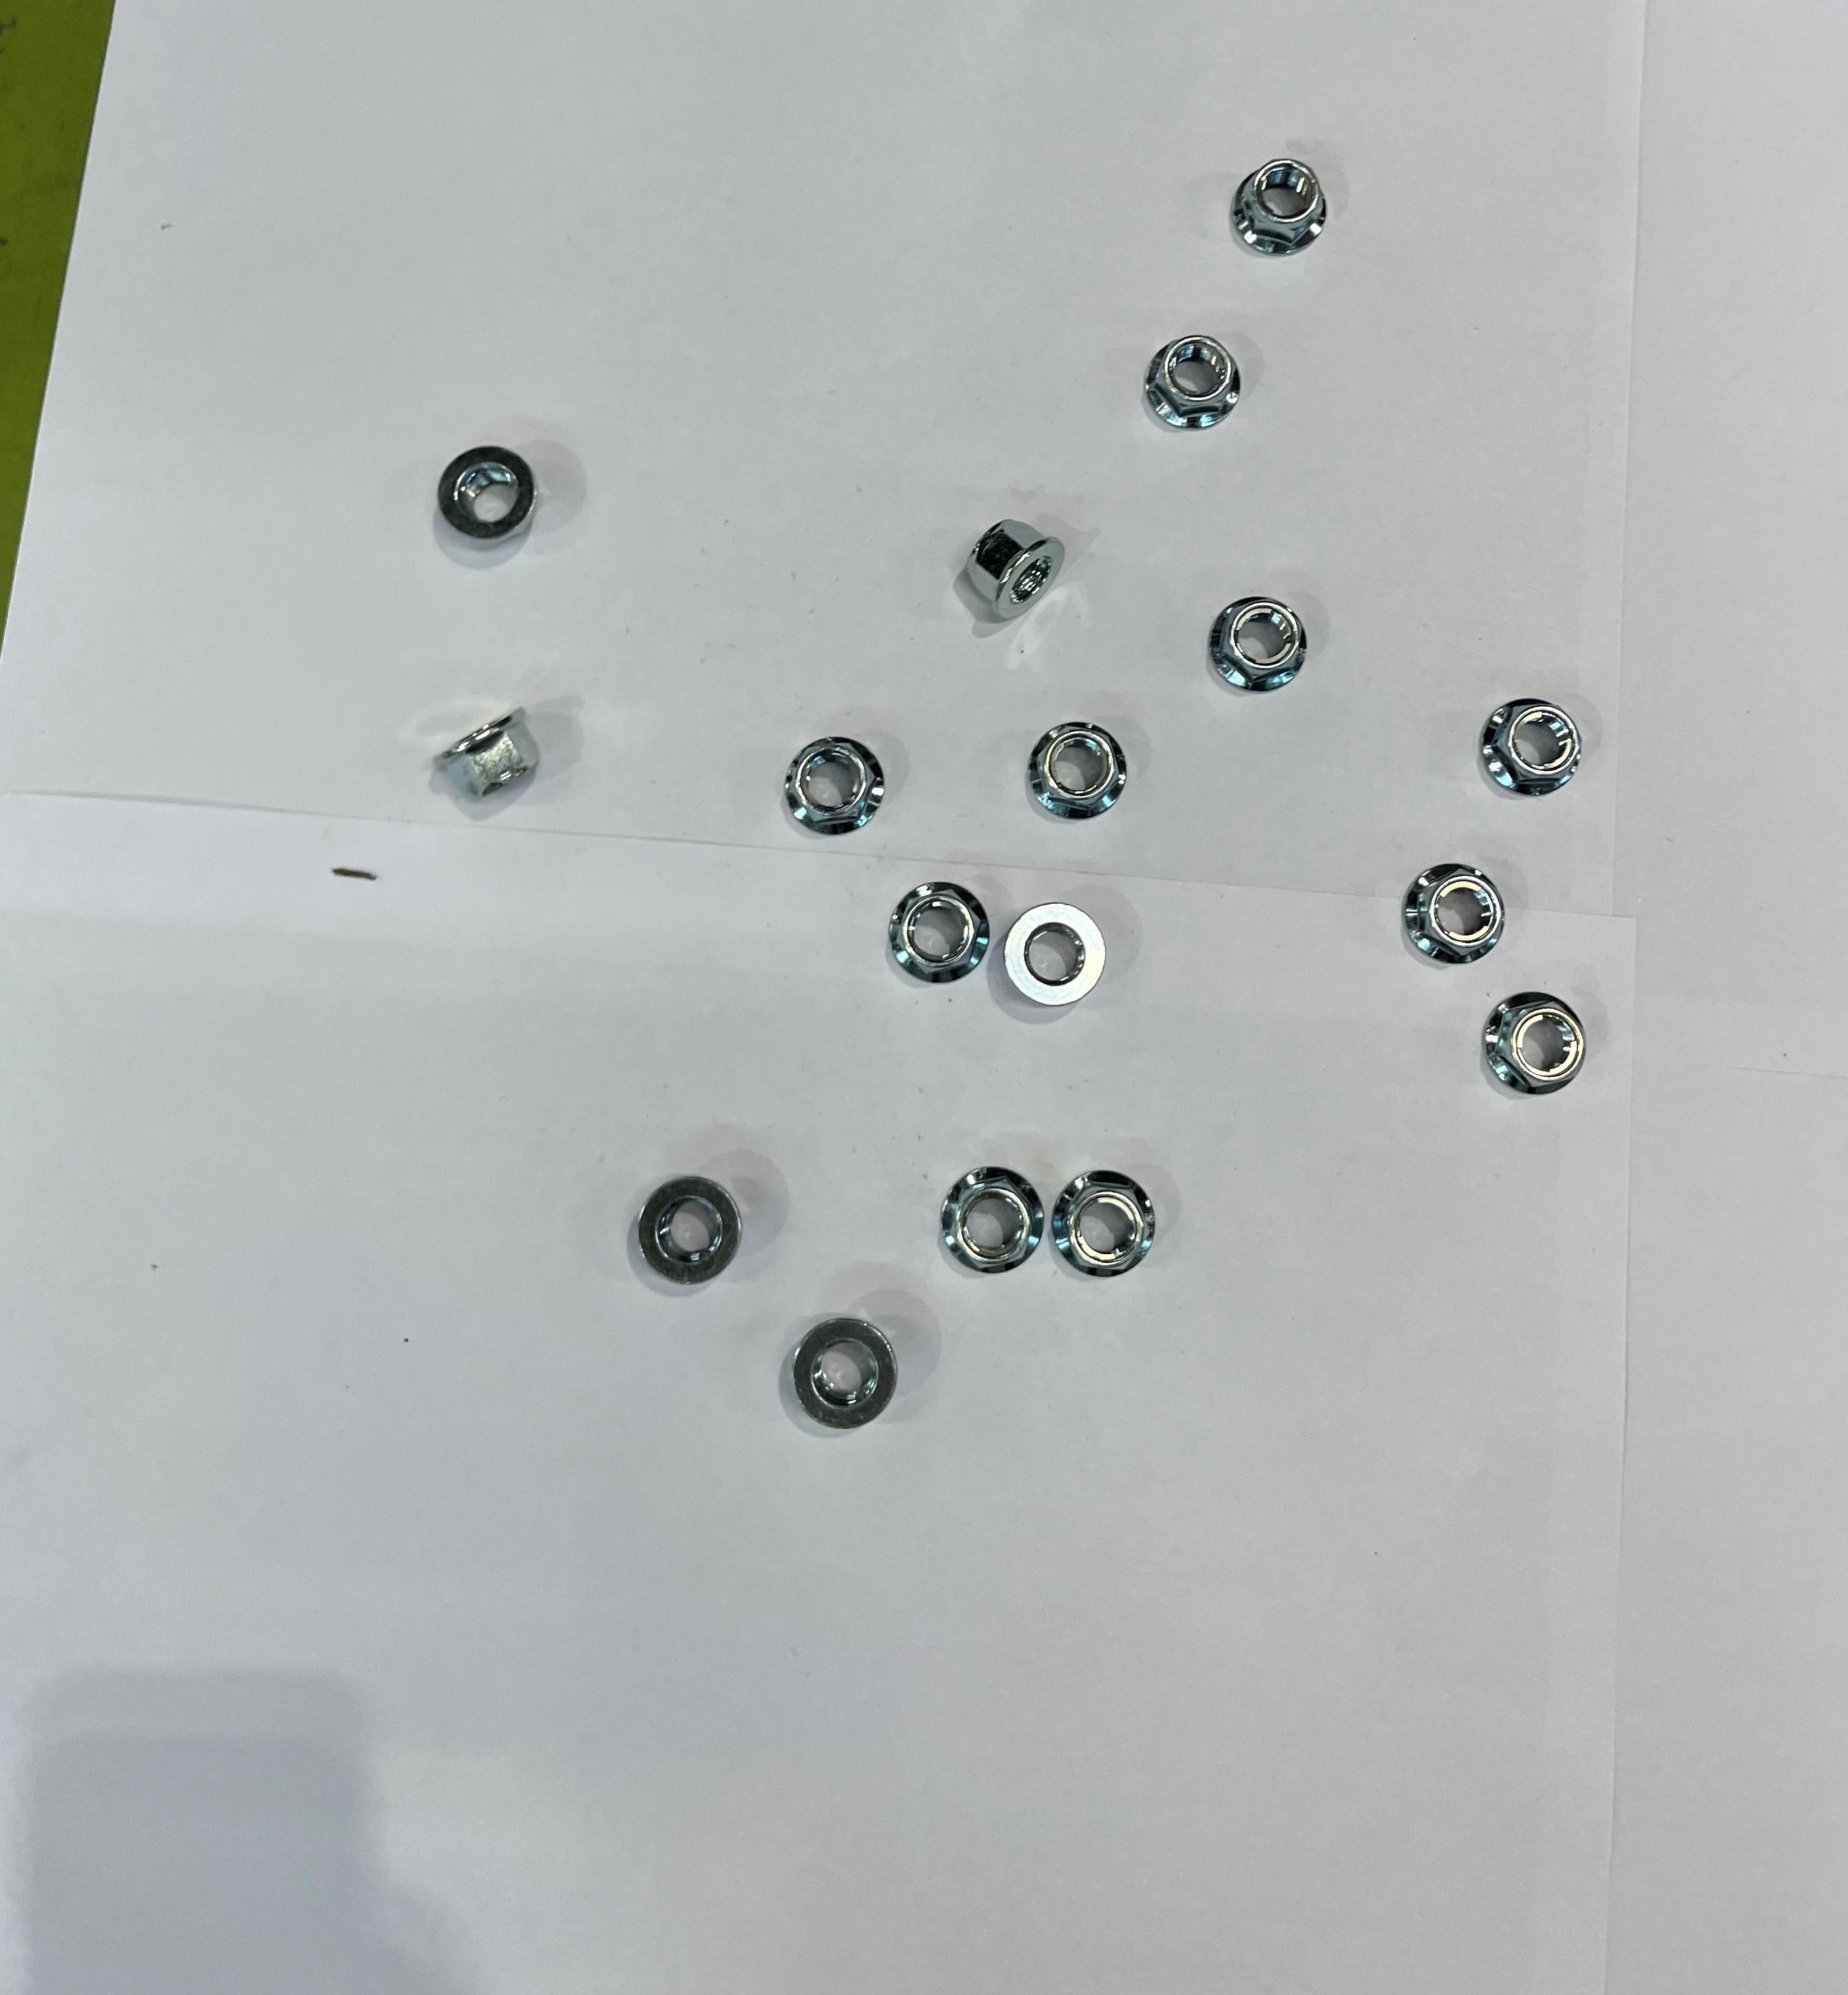Type B: (1054, 1170, 1160, 1282), (796, 1316, 895, 1428), (1485, 992, 1587, 1100), (944, 1166, 1043, 1277), (965, 514, 1064, 626), (890, 881, 993, 987), (638, 1180, 742, 1282), (1003, 904, 1104, 1008), (435, 706, 542, 803), (784, 737, 887, 836), (440, 447, 537, 551), (1029, 719, 1127, 822), (1406, 864, 1504, 963), (1212, 594, 1307, 695), (1483, 697, 1580, 794), (1236, 156, 1328, 257), (1147, 332, 1241, 429)
